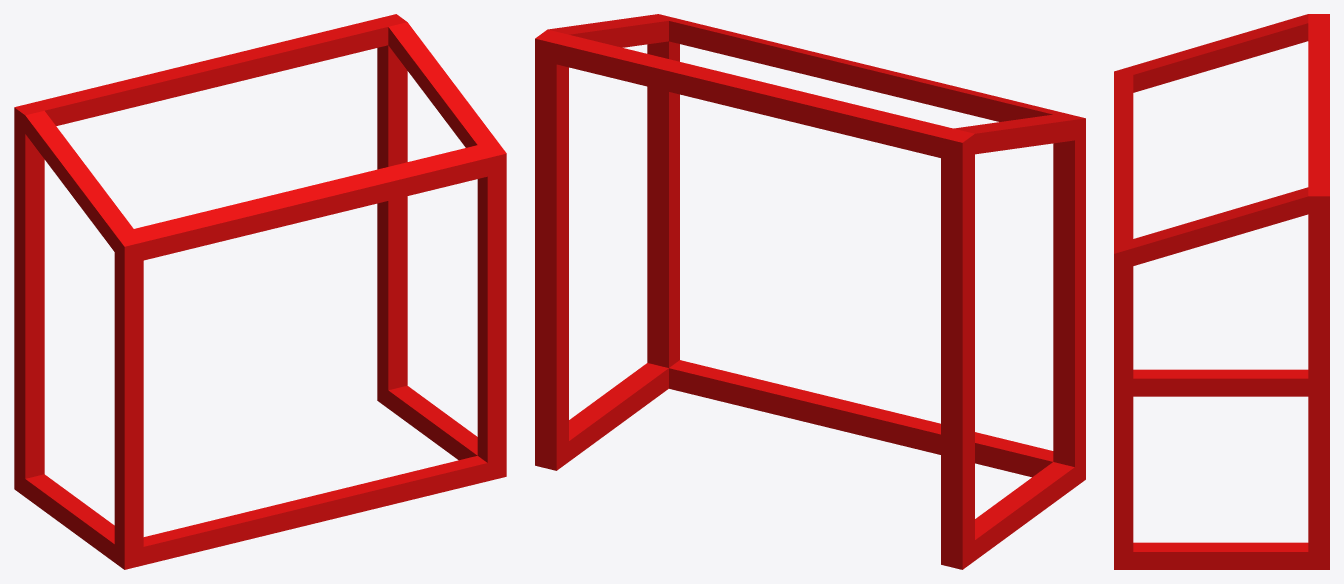
Rendered from But_rouge_v1_003.FBX.
3 renders of one model, left to right at view 1: azimuth 30°, elevation 25°; view 2: azimuth 150°, elevation 25°; view 3: azimuth 270°, elevation 25°, orthographic. The views are drawn at different scales.
Visible parts, largest first — view 1: Cage002; view 2: Cage002; view 3: Cage002.
Part boxes in pixels (box(x1,y1,x2,y2)): Cage002: box(14, 14, 506, 569); Cage002: box(535, 14, 1085, 569); Cage002: box(1114, 14, 1329, 569).
Size of the model in its own units: 199 by 190 by 99.31.
